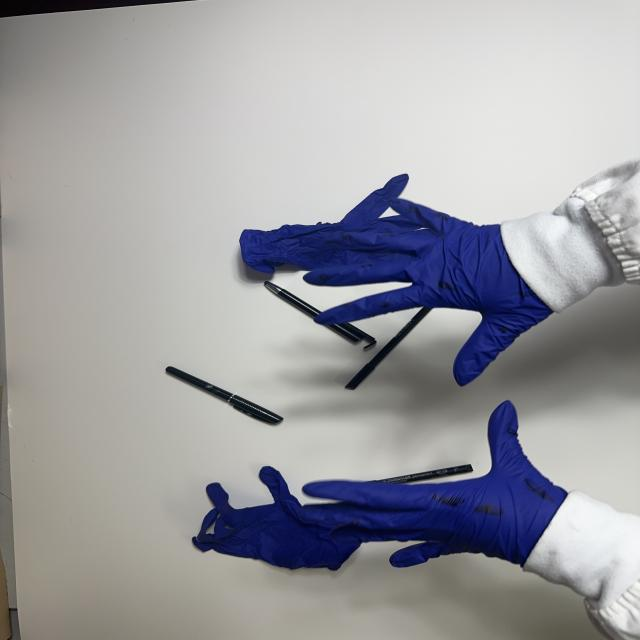gloves_contaminated: (304, 200, 552, 386), (299, 401, 567, 567)
